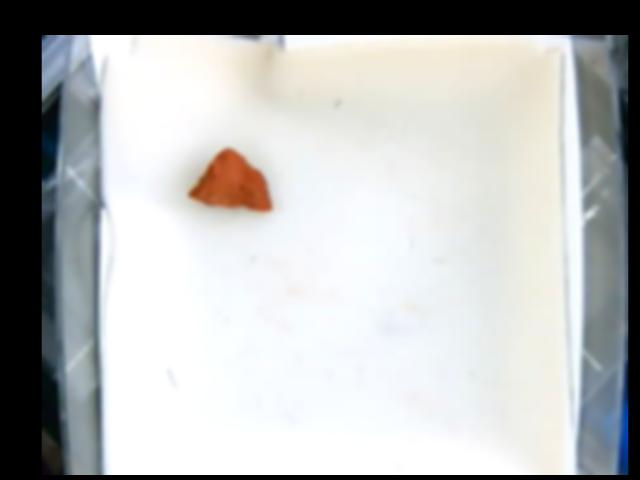Brisk: (188, 144, 274, 212)
